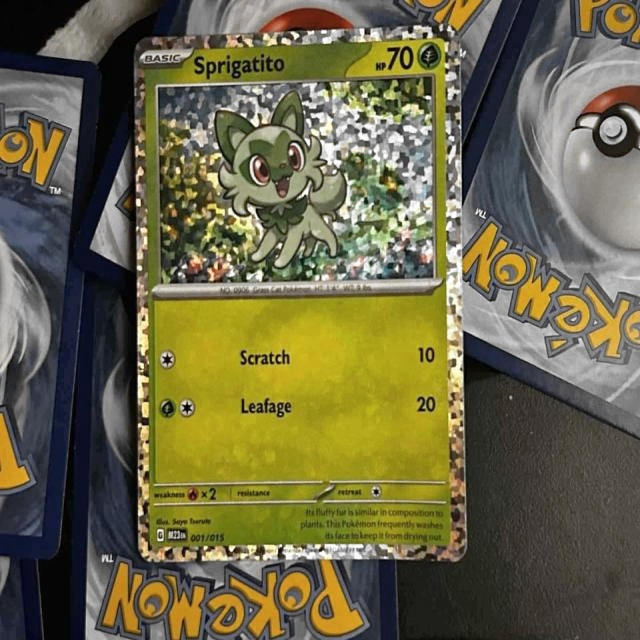card: (130, 21, 471, 564)
